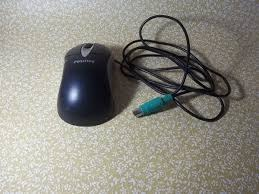mouse: (57, 38, 120, 130)
